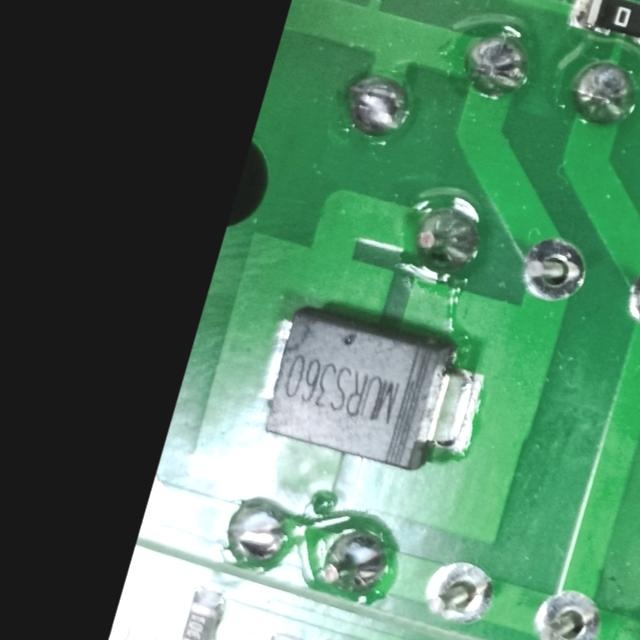chip-resistor: (564, 0, 640, 58), (173, 579, 231, 640)
diode: (247, 296, 495, 490)
